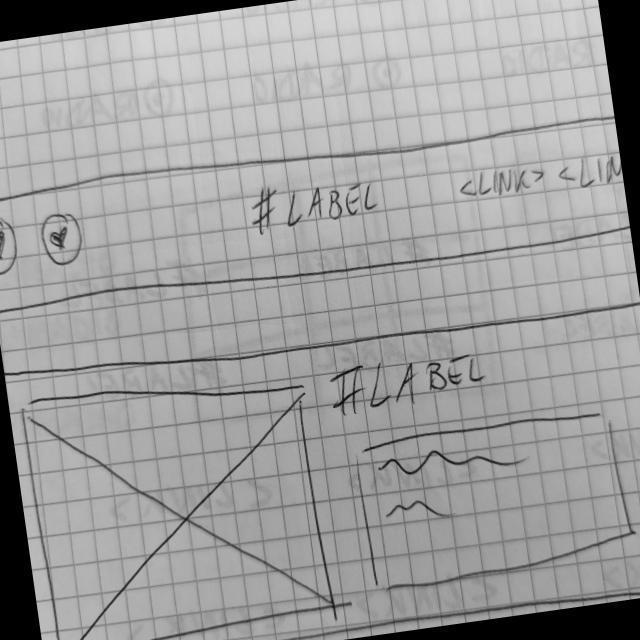container: (4, 280, 640, 640), (1, 101, 632, 326)
icon-button: (37, 209, 90, 272), (1, 215, 23, 280)
image: (17, 358, 340, 640)
label: (325, 342, 491, 424), (247, 170, 386, 240)
link: (456, 161, 549, 208), (556, 149, 626, 198)
textarea: (351, 405, 640, 600)
